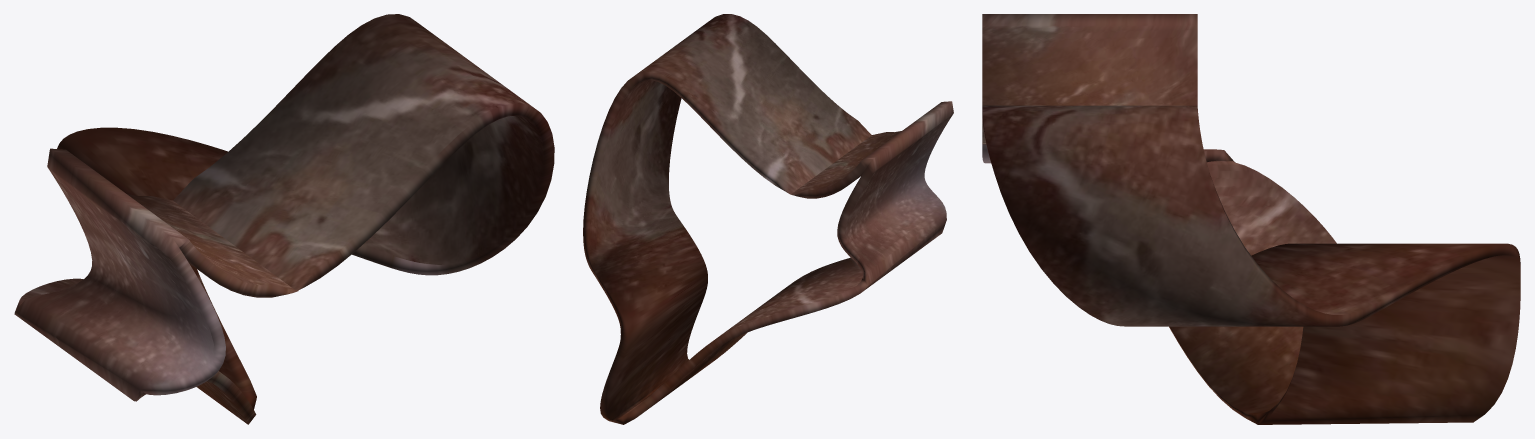
The model's file is sculpture.glb.
3 renders of one model, left to right at view 1: azimuth 30°, elevation 25°; view 2: azimuth 150°, elevation 25°; view 3: azimuth 270°, elevation 25°, orthographic. The views are drawn at different scales.
Visible parts, largest first — view 1: NurbsCircle; view 2: NurbsCircle; view 3: NurbsCircle.
Part boxes in pixels (box(x1,y1,x2,y2)): NurbsCircle: box(14, 14, 554, 424); NurbsCircle: box(583, 14, 953, 424); NurbsCircle: box(982, 14, 1520, 424).
Bounding box in the file's own units: 2.6 × 2.42 × 3.33.
1 material, 1 textured.
